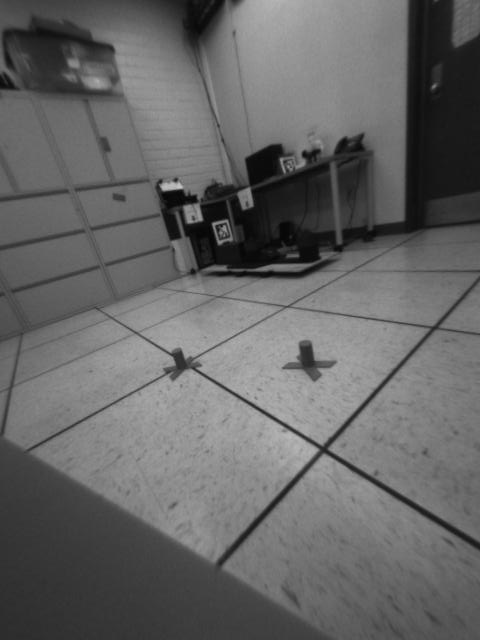X: (280, 339, 338, 383), (161, 346, 203, 382)
